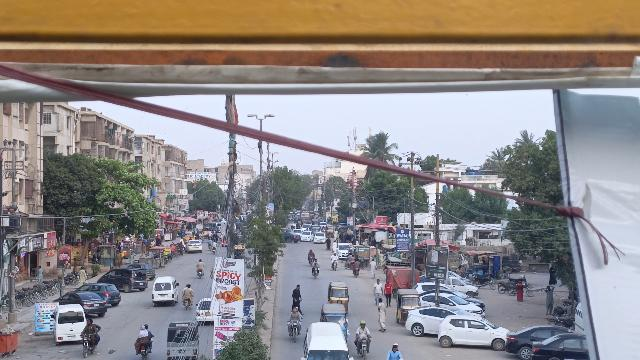Bike: (80, 333, 93, 358), (289, 319, 301, 343), (358, 337, 370, 360), (139, 343, 149, 360), (183, 298, 190, 311), (313, 266, 319, 279), (331, 259, 337, 272), (196, 268, 203, 279), (353, 268, 359, 278), (309, 256, 314, 267)
Car: (436, 314, 507, 351), (506, 320, 565, 360), (404, 306, 465, 338), (532, 331, 589, 360), (55, 291, 109, 317), (96, 268, 149, 290), (78, 281, 122, 307), (196, 295, 217, 326)
Person: (375, 297, 390, 333), (542, 284, 558, 315), (290, 284, 304, 311), (371, 277, 384, 305), (133, 325, 151, 345), (355, 319, 371, 340), (384, 278, 394, 307), (384, 344, 401, 360), (76, 265, 89, 284), (369, 258, 379, 279), (84, 319, 96, 336), (36, 264, 45, 285), (183, 284, 192, 298), (196, 258, 205, 270), (330, 252, 339, 262), (353, 258, 361, 269), (307, 248, 315, 258), (312, 258, 319, 268)
Rickshaw: (165, 319, 201, 360), (320, 304, 350, 339), (396, 287, 420, 324), (327, 280, 351, 312)
Van: (302, 321, 352, 360), (50, 303, 89, 344), (152, 274, 179, 307)
